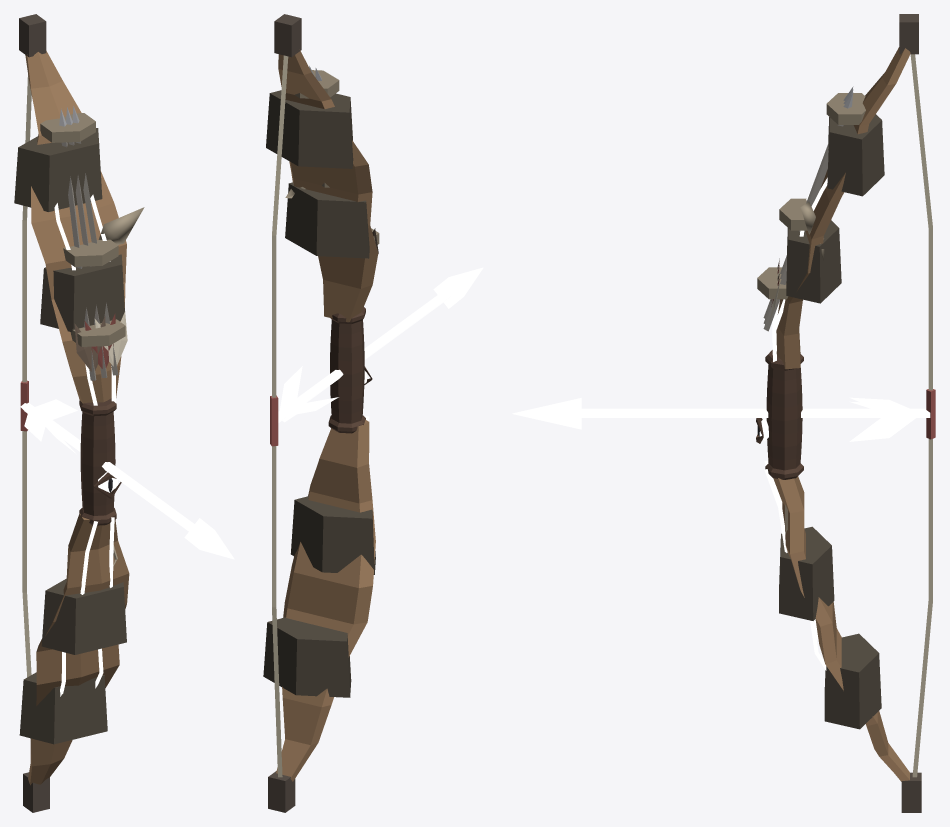
Rendered from bow-tracker.glb.
3 views of the same model, side by side, from view 1: azimuth 30°, elevation 25°; view 2: azimuth 150°, elevation 25°; view 3: azimuth 270°, elevation 25° (orthographic).
Parts seen in each view (by area): view 1: bow-tracker, pulse_arrow, string, pulse_vein, blink_eye; view 2: bow-tracker, string, pulse_arrow; view 3: bow-tracker, pulse_arrow, string, pulse_vein.
Boxes of the visible parts, x1=… form: bow-tracker: x1=14, y1=14, x2=144, y2=812; pulse_arrow: x1=20, y1=399, x2=234, y2=559; string: x1=20, y1=75, x2=31, y2=677; pulse_vein: x1=54, y1=194, x2=115, y2=696; blink_eye: x1=94, y1=472, x2=121, y2=498; bow-tracker: x1=263, y1=14, x2=379, y2=812; string: x1=270, y1=55, x2=288, y2=777; pulse_arrow: x1=278, y1=267, x2=483, y2=422; bow-tracker: x1=757, y1=14, x2=921, y2=812; pulse_arrow: x1=512, y1=397, x2=930, y2=441; string: x1=910, y1=54, x2=935, y2=777; pulse_vein: x1=764, y1=177, x2=827, y2=670.
Size of the model in its own units: 0.1952 by 1.48 by 0.7223.
